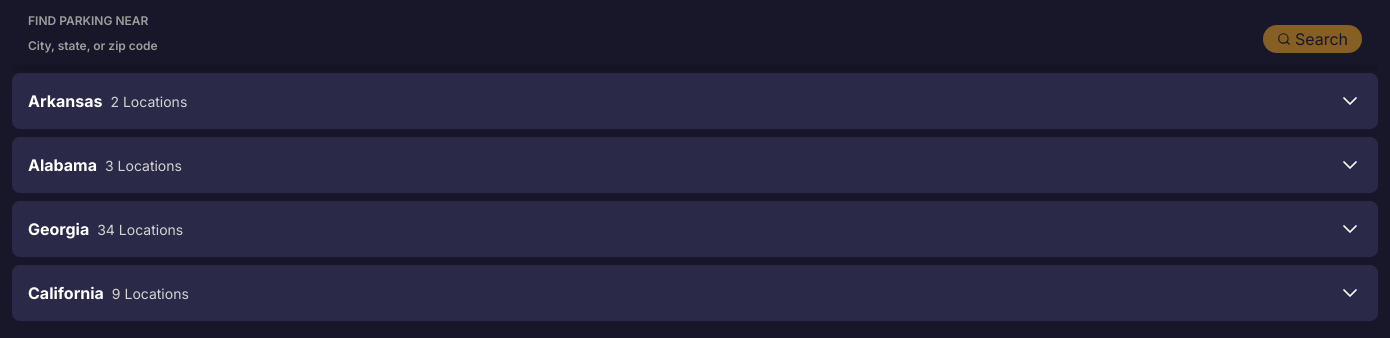
Scenario: LocationsAccordion › renders the Figma search control with submit disabled until text is entered
The width and height of the screenshot is (1390, 338).
Expected: the button "Search" is disabled, [1263,25,1362,53]
Type "California" into the search field labelled "Find parking near" at (639, 45), box [28,33,1251,57]
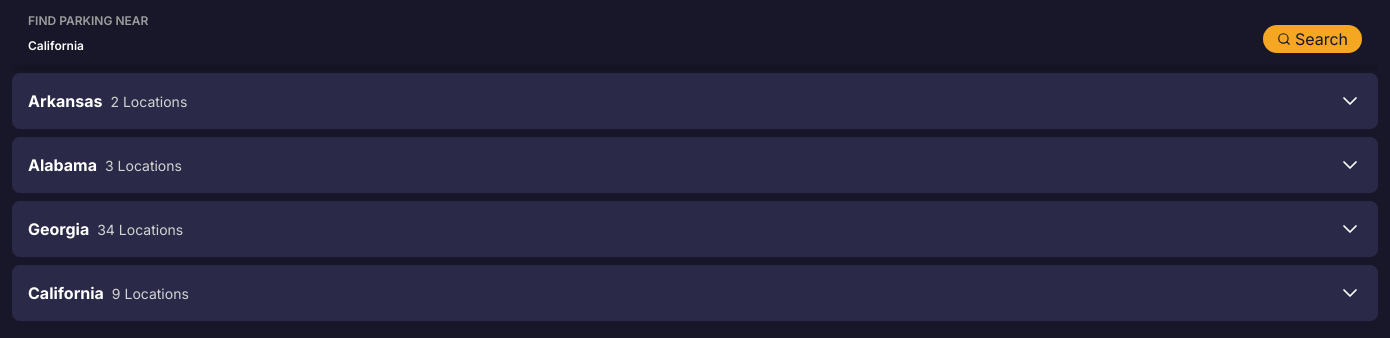
Result: the button "Search" is enabled at [1263,25,1362,53]
